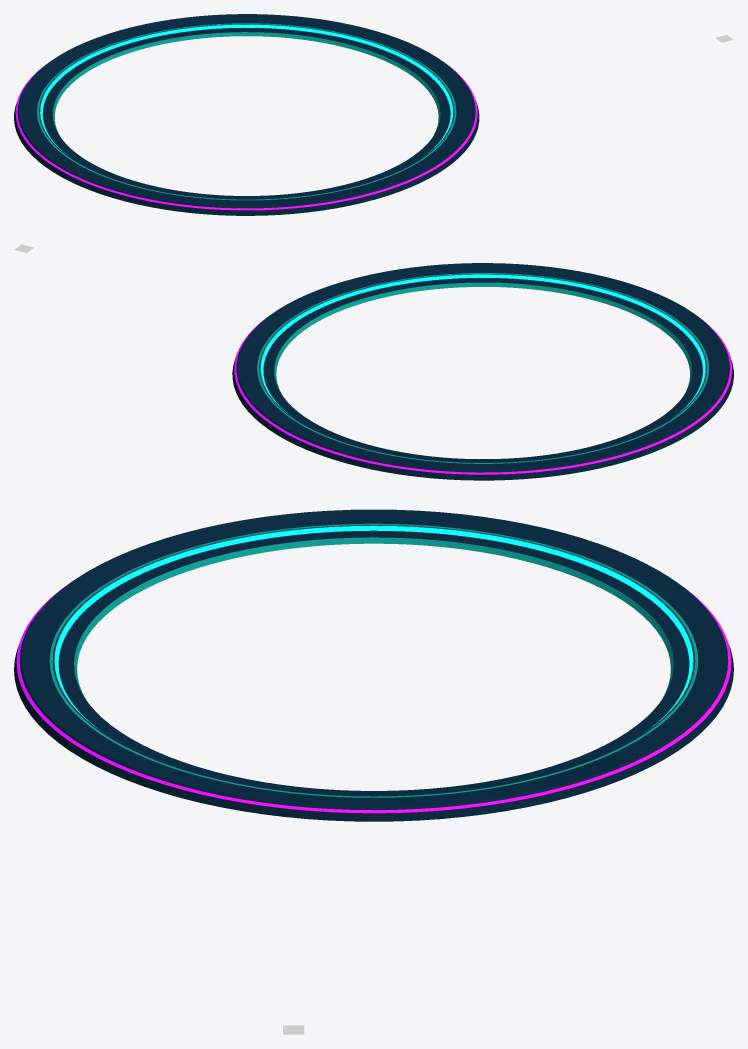
3 views of the same model, one above another, from view 1: azimuth 30°, elevation 25°; view 2: azimuth 150°, elevation 25°; view 3: azimuth 270°, elevation 25° (orthographic). The views are drawn at different scales.
Parts seen in each view (by area): view 1: Torus; view 2: Torus; view 3: Torus.
Part boxes in pixels (x1=…): Torus: x1=14, y1=14, x2=479, y2=215; Torus: x1=232, y1=263, x2=733, y2=480; Torus: x1=14, y1=509, x2=733, y2=821.
Bounding box in the file's own units: 10942 × 311 × 6689.
